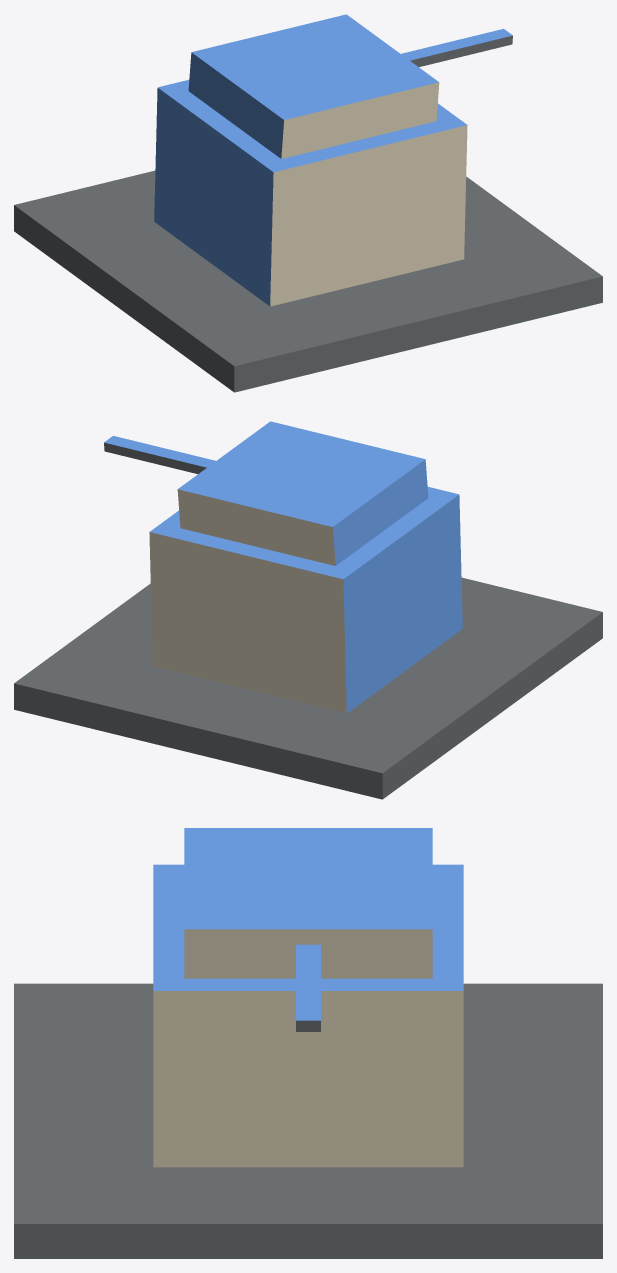
File: meridian_defence_tower_heavily_damaged.glb
3 renders of one model, top to bottom at view 1: azimuth 30°, elevation 25°; view 2: azimuth 150°, elevation 25°; view 3: azimuth 270°, elevation 25°, orthographic. The views are drawn at different scales.
Visible parts, largest first — view 1: hull, turret, barrel; view 2: hull, turret, barrel; view 3: hull, turret, barrel.
Part boxes in pixels (bbox=[...]): hull: bbox=[14, 80, 602, 392]; turret: bbox=[188, 14, 439, 158]; barrel: bbox=[401, 29, 512, 66]; hull: bbox=[14, 487, 602, 799]; turret: bbox=[177, 421, 428, 565]; barrel: bbox=[104, 436, 215, 473]; hull: bbox=[14, 864, 602, 1258]; turret: bbox=[184, 828, 432, 978]; barrel: bbox=[296, 944, 320, 1031].
Size of the model in its own units: 3.82 by 1.88 by 3.8.
